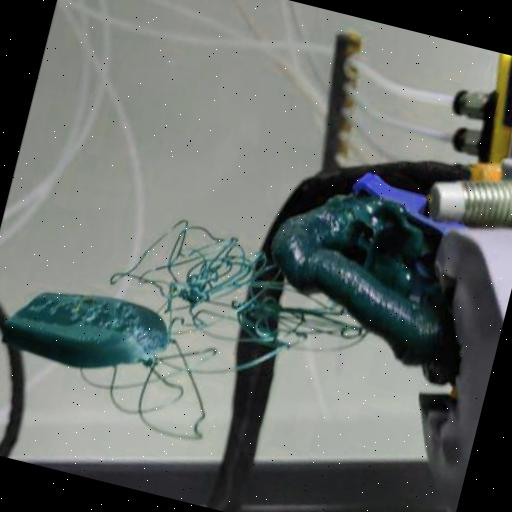spaghetti: (84, 194, 392, 412), (70, 346, 224, 448)
